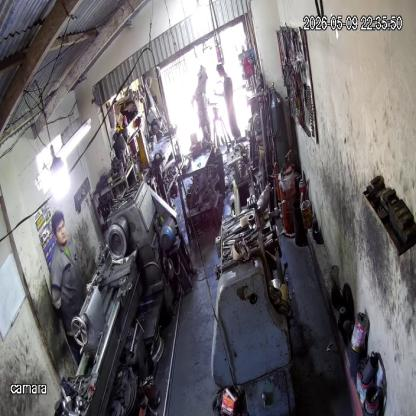sin_lentes: (55, 221, 66, 234)
